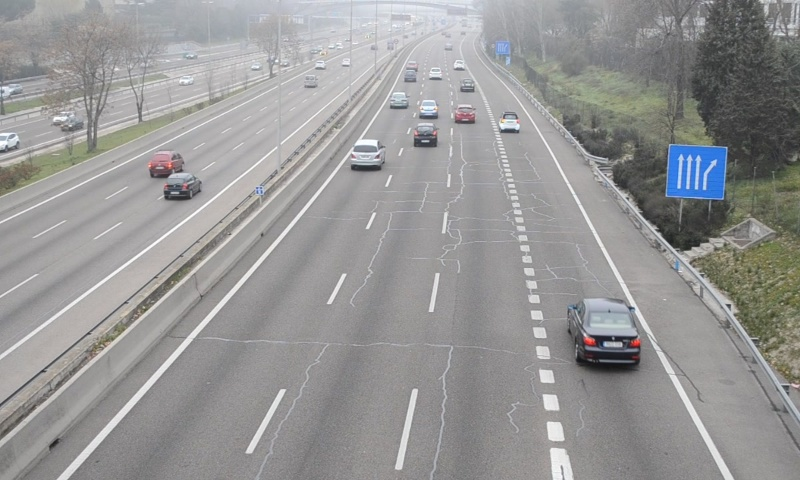car: (569, 298, 641, 365), (347, 139, 386, 167), (413, 122, 438, 147), (453, 103, 476, 126), (498, 111, 521, 132), (418, 98, 439, 120), (388, 90, 408, 108), (459, 76, 475, 93)
